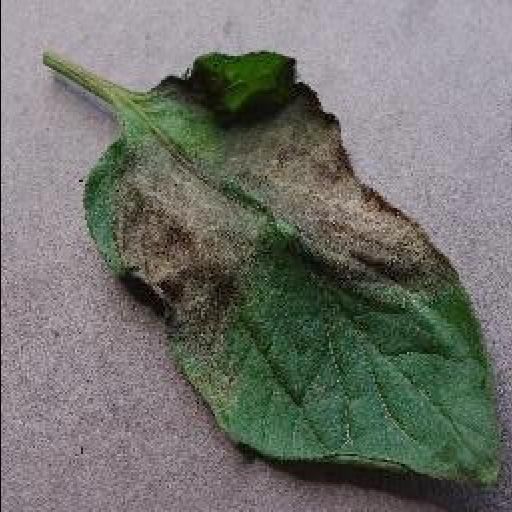disease_tomato: (80, 50, 512, 488)
